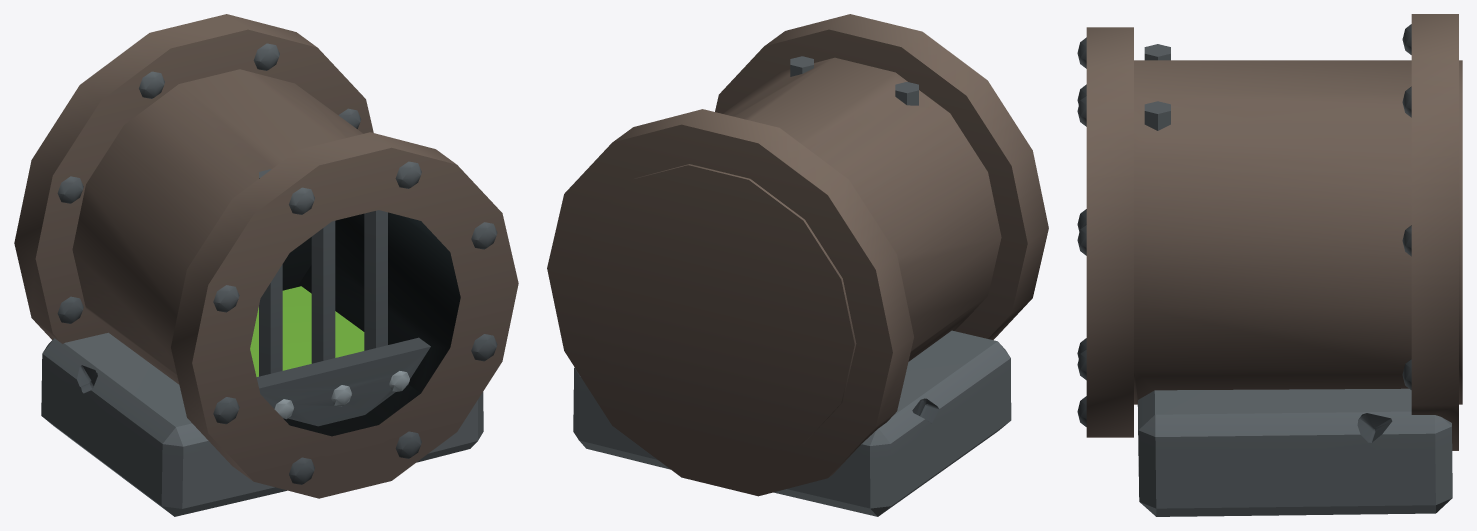
Rendered from pipe_outlet.glb.
The picture shows the model from 3 angles, left to right: view 1: azimuth 30°, elevation 25°; view 2: azimuth 150°, elevation 25°; view 3: azimuth 270°, elevation 25°; orthographic projection. The views are drawn at different scales.
Parts seen in each view (by area): view 1: pipe_outlet; view 2: pipe_outlet; view 3: pipe_outlet.
Part boxes in pixels (x1=…): pipe_outlet: x1=14, y1=14, x2=518, y2=516; pipe_outlet: x1=547, y1=14, x2=1048, y2=516; pipe_outlet: x1=1077, y1=14, x2=1462, y2=516.
Bounding box in the file's own units: 1.32 × 1.32 × 1.14.
Materials: 1 (1 with a texture image).
